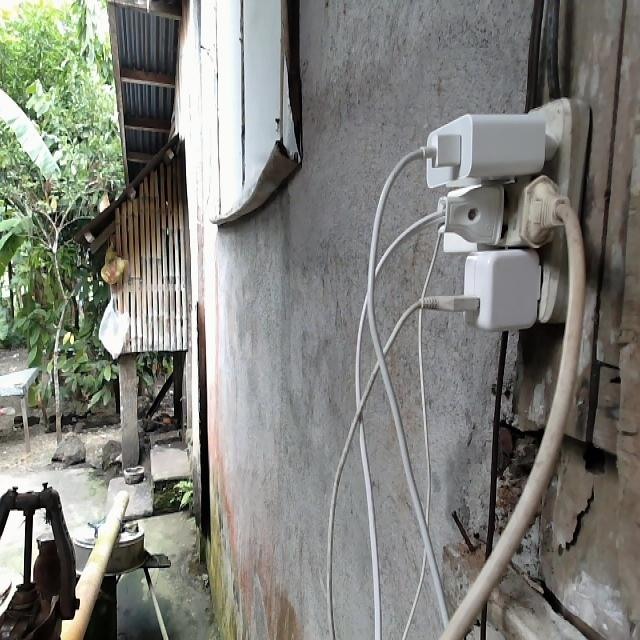-: (413, 92, 594, 340)
